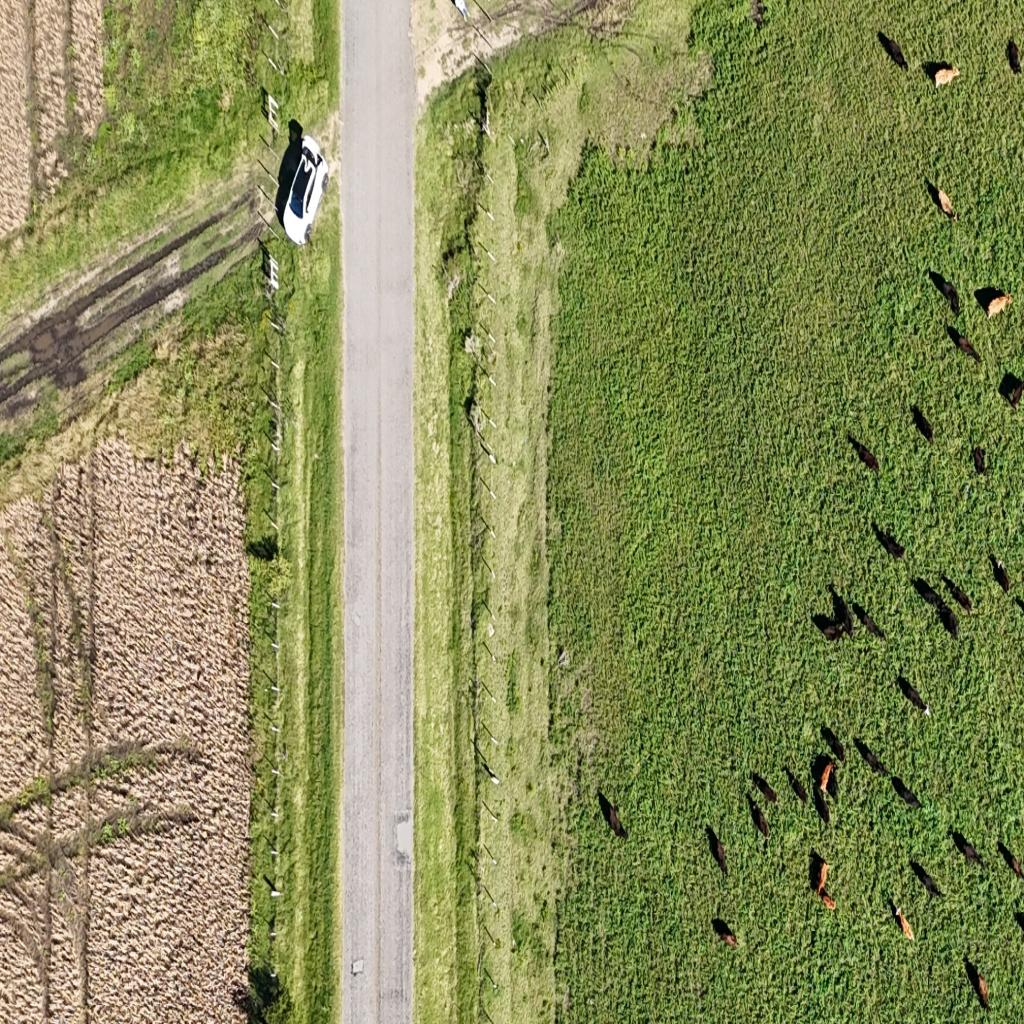cow: (598, 790, 627, 842), (810, 853, 836, 911), (930, 269, 960, 317), (964, 957, 990, 1011), (911, 860, 944, 902), (927, 178, 959, 221), (946, 325, 982, 363), (851, 601, 885, 640), (952, 830, 985, 870), (940, 574, 974, 612), (897, 674, 929, 714), (878, 31, 908, 73), (848, 435, 880, 474), (811, 754, 837, 800), (976, 286, 1011, 320), (890, 774, 922, 811), (924, 60, 961, 92), (874, 522, 905, 560), (707, 825, 728, 881), (812, 613, 850, 643), (997, 840, 1024, 881), (912, 577, 944, 611), (856, 740, 886, 776), (891, 896, 914, 942), (748, 795, 769, 843), (999, 371, 1024, 411), (911, 404, 934, 444), (936, 602, 960, 640), (989, 552, 1011, 593), (821, 724, 845, 761), (787, 768, 809, 807), (752, 772, 778, 804), (712, 918, 738, 949), (814, 783, 831, 830), (1005, 37, 1023, 76), (748, 0, 768, 31), (972, 446, 986, 474)
